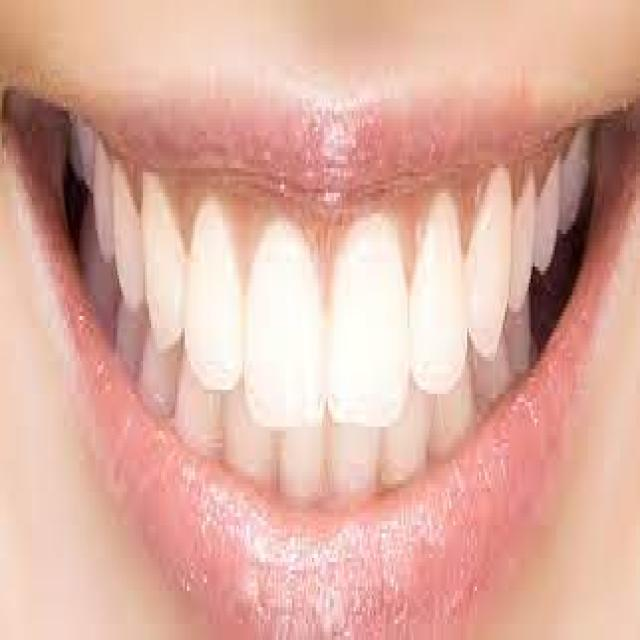tooth: (336, 229, 409, 426), (250, 238, 316, 386), (417, 193, 465, 369), (193, 201, 238, 382), (141, 168, 187, 336), (467, 176, 509, 344), (229, 394, 280, 488), (286, 386, 324, 496), (113, 152, 141, 299), (396, 394, 430, 480), (181, 369, 219, 443), (330, 414, 368, 488), (536, 164, 558, 254), (92, 144, 112, 242), (435, 382, 465, 447), (475, 345, 509, 402), (147, 328, 171, 406), (514, 184, 530, 296), (566, 136, 590, 210), (121, 296, 137, 365)
